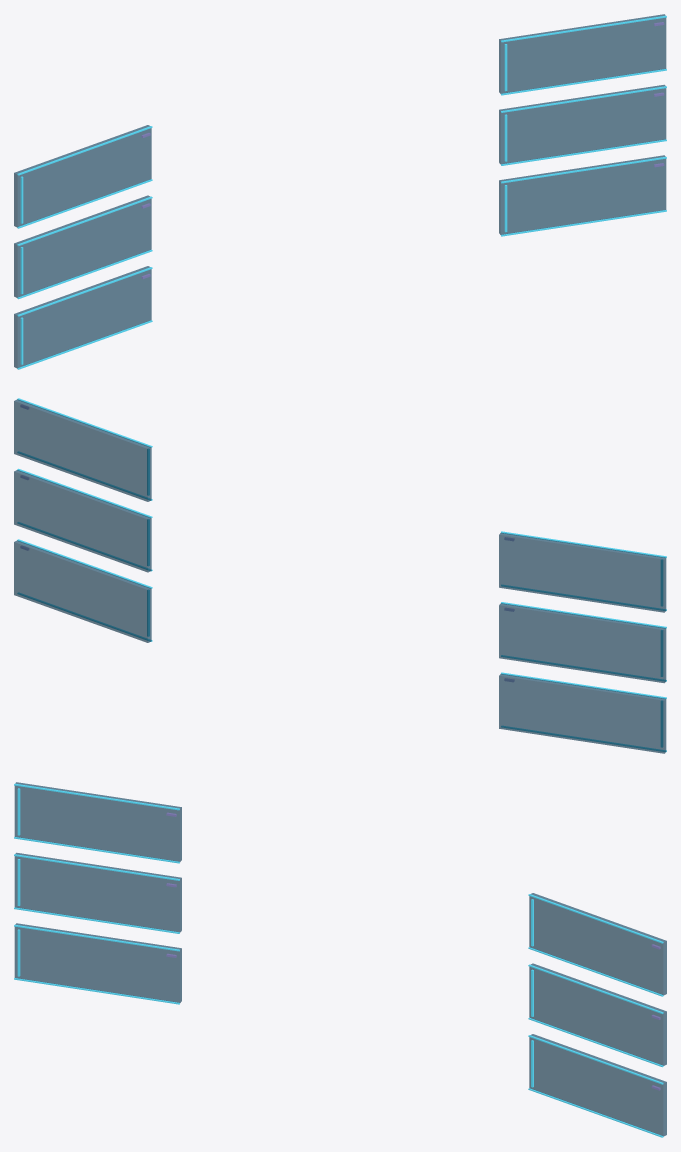
File: 04_service_panels.glb
The picture shows the model from 3 angles, top to bottom: view 1: azimuth 30°, elevation 25°; view 2: azimuth 150°, elevation 25°; view 3: azimuth 330°, elevation 25°; orthographic projection.
Parts seen in each view (by area): view 1: service_3, service_4, service_5, service_1, service_2, service_0; view 2: service_0, service_1, service_2, service_4, service_3, service_5; view 3: service_0, service_1, service_2, service_4, service_5, service_3.
Part boxes in pixels (bbox=[...]): service_3: bbox=[499, 14, 666, 95]; service_4: bbox=[499, 85, 666, 165]; service_5: bbox=[499, 155, 666, 236]; service_1: bbox=[14, 195, 152, 299]; service_2: bbox=[14, 266, 152, 369]; service_0: bbox=[14, 125, 152, 228]; service_0: bbox=[499, 531, 666, 612]; service_1: bbox=[499, 602, 666, 682]; service_2: bbox=[499, 672, 666, 753]; service_4: bbox=[14, 468, 152, 572]; service_3: bbox=[14, 398, 152, 501]; service_5: bbox=[14, 539, 152, 642]; service_0: bbox=[14, 782, 181, 863]; service_1: bbox=[14, 853, 181, 933]; service_2: bbox=[14, 923, 181, 1004]; service_4: bbox=[528, 963, 666, 1067]; service_5: bbox=[528, 1034, 666, 1137]; service_3: bbox=[528, 893, 666, 996].
Bounding box in the file's own units: 8.98 × 2.57 × 0.4647.
